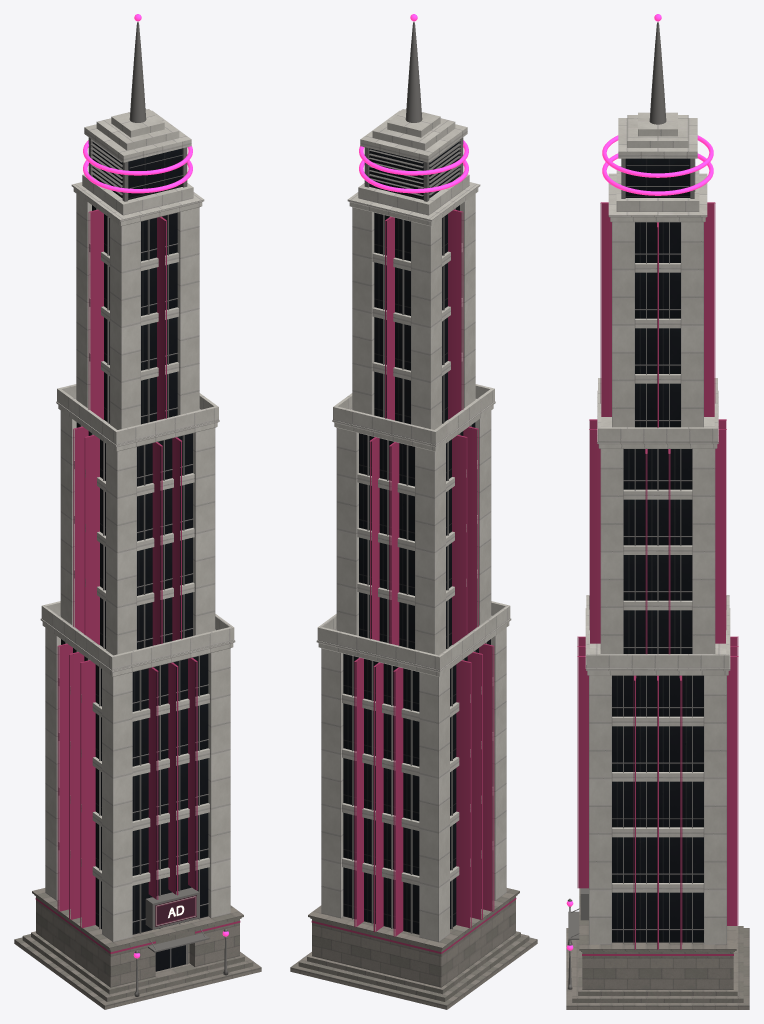
Rendered from s31-aerospace-dao.glb.
3 views of the same model, side by side, from view 1: azimuth 30°, elevation 25°; view 2: azimuth 150°, elevation 25°; view 3: azimuth 270°, elevation 25° (orthographic).
Parts seen in each view (by area): view 1: Landmark · Aerospace DAO (Series 31); view 2: Landmark · Aerospace DAO (Series 31); view 3: Landmark · Aerospace DAO (Series 31).
Part boxes in pixels (<box>): Landmark · Aerospace DAO (Series 31): <box>14,14,261,1009</box>; Landmark · Aerospace DAO (Series 31): <box>290,14,537,1009</box>; Landmark · Aerospace DAO (Series 31): <box>566,14,749,1009</box>.
Size of the model in its own units: 12 by 69 by 12.
Materials: 7 (4 with a texture image).
